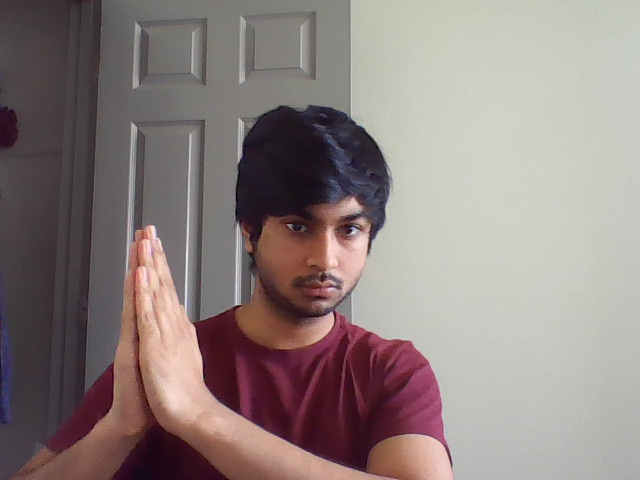start: (102, 218, 208, 454)
